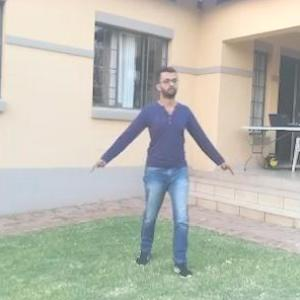land: (96, 73, 225, 261)
